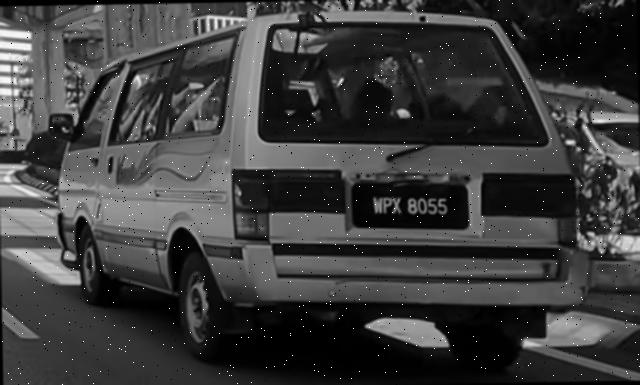License_Plate: (349, 178, 472, 232)
car: (46, 5, 597, 371)
